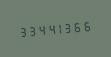four: (35, 21, 43, 38), (44, 21, 52, 37)
one: (53, 20, 61, 36)
six: (80, 17, 88, 34), (71, 18, 79, 34)
three: (17, 23, 25, 39), (26, 22, 34, 38), (62, 19, 70, 35)
